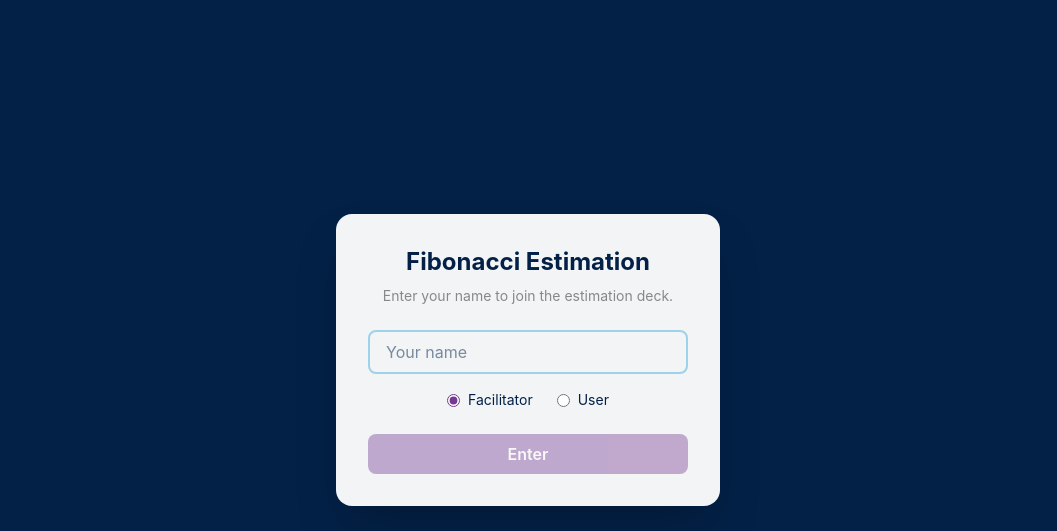
App › creates a new room and transitions to the main page when there is no room in the URL
Check: the heading "Fibonacci Estimation" is shown, box [406,247,650,276]
Click the radio button labelled "User". click: (563, 400)
box: [557,394,570,406]
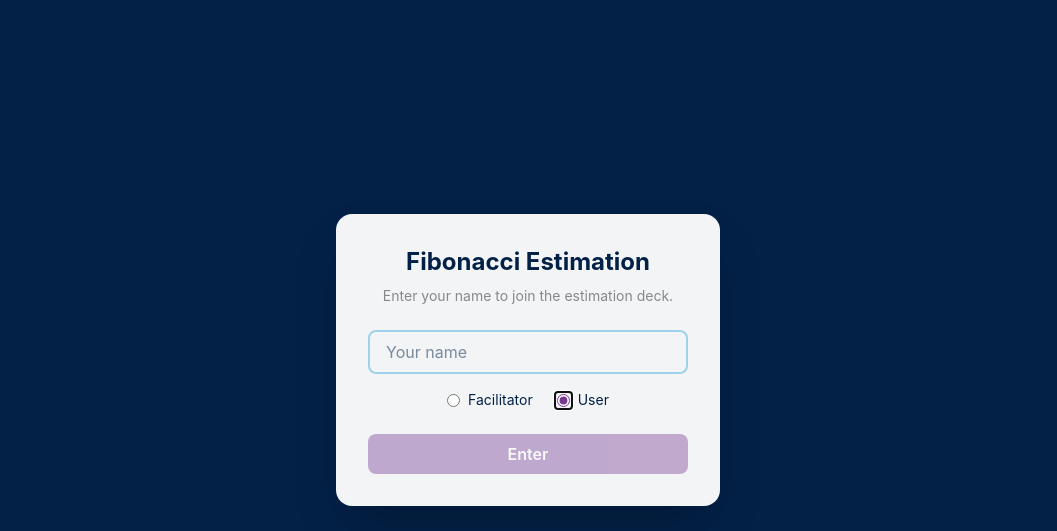
Type "Ada Lovelace" into the field labelled "Your name". click: (528, 352)
box: [368,330,688,374]
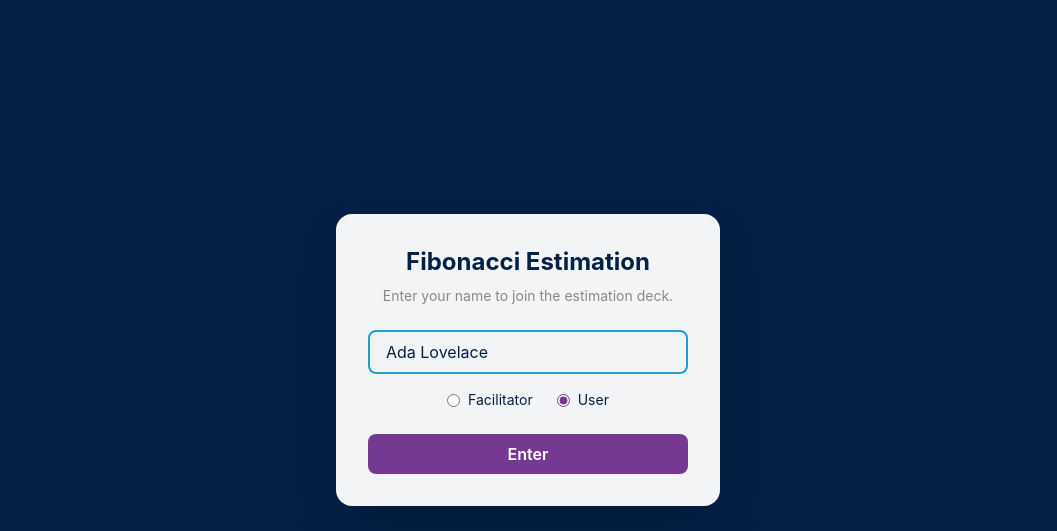
Click the button "Enter". click: (528, 454)
box: [368,434,688,474]
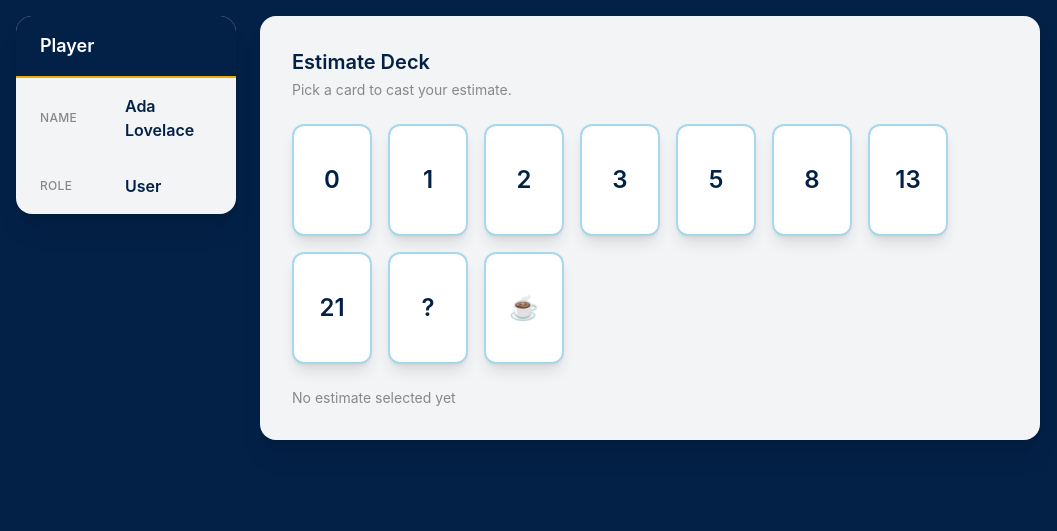
Check: the heading "Estimate Deck" is shown, box [292,50,430,74]
Check: the text "Ada Lovelace" is shown, box [101,78,236,158]
